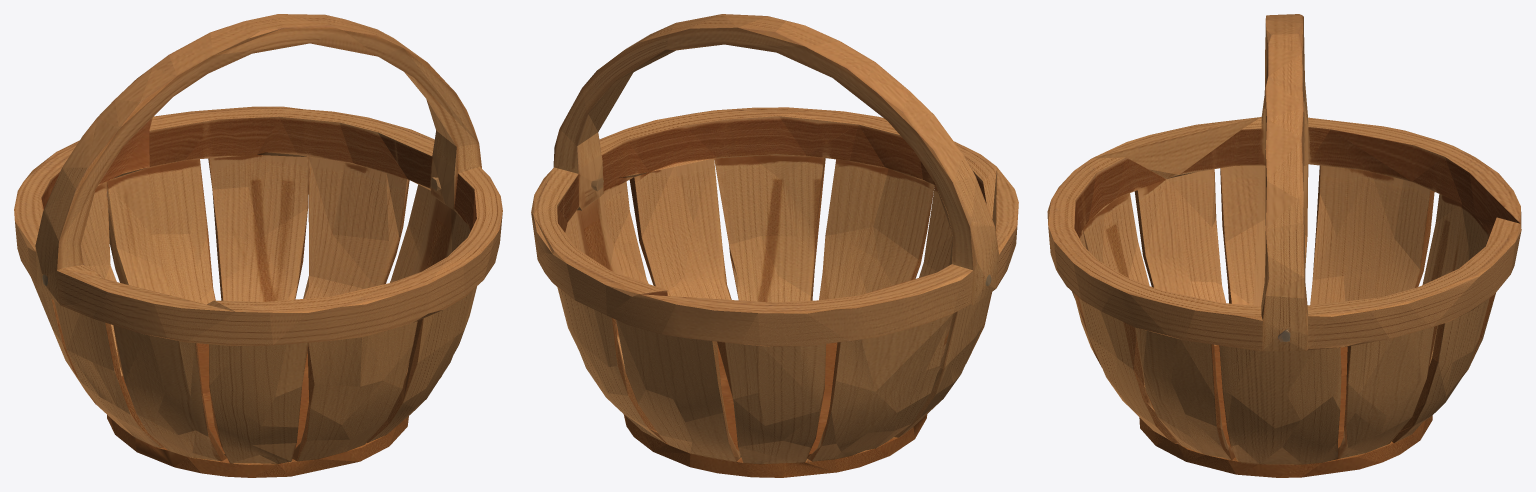
Rendered from trug_basket.glb.
3 renders of one model, left to right at view 1: azimuth 30°, elevation 25°; view 2: azimuth 150°, elevation 25°; view 3: azimuth 270°, elevation 25°, orthographic. The views are drawn at different scales.
Size of the model in its own units: 1.92 by 1.65 by 1.88.
Materials: 1 (1 with a texture image).
